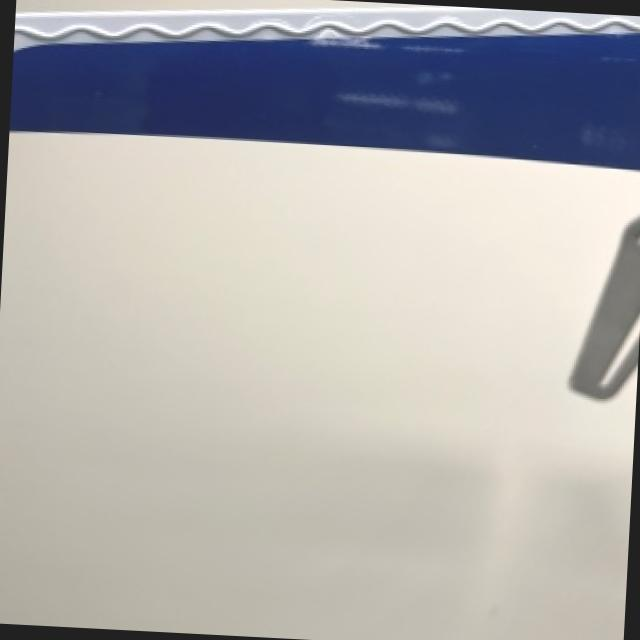healthy: (0, 8, 640, 640), (567, 216, 640, 397)
